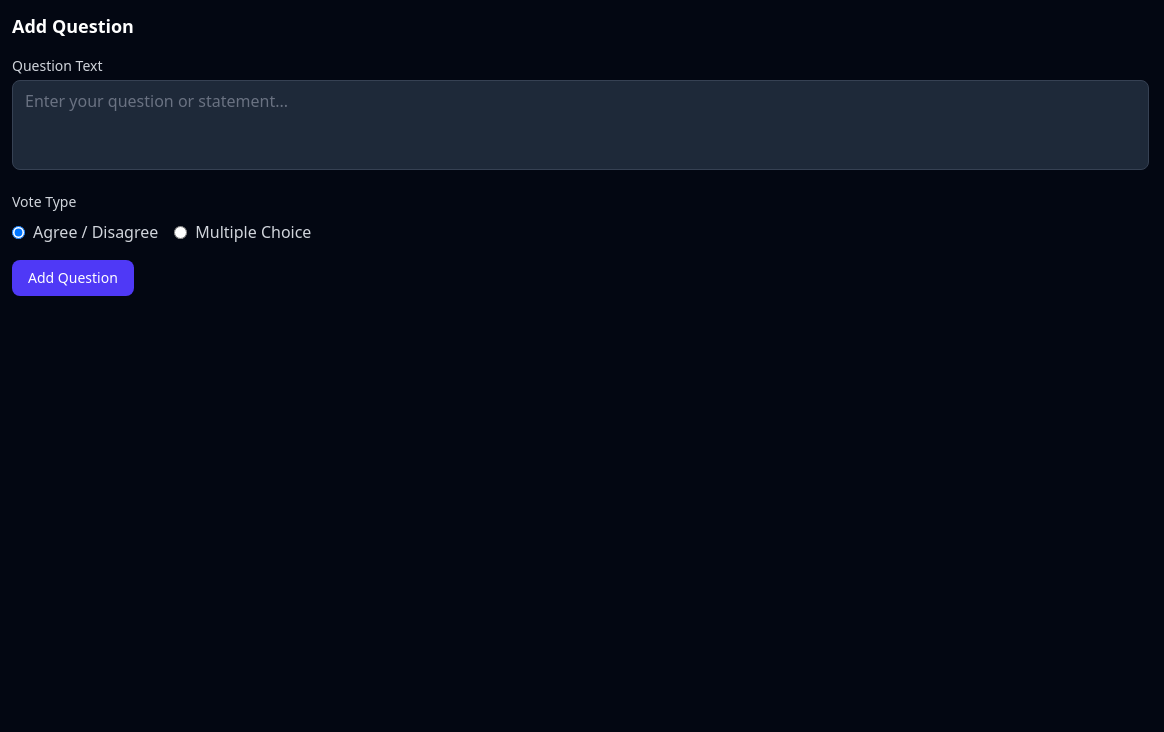
it: QuestionForm › shows error when MC has fewer than 2 options
Click the radio button showing "multiple_choice".
click(181, 232)  # box [174,226,187,238]
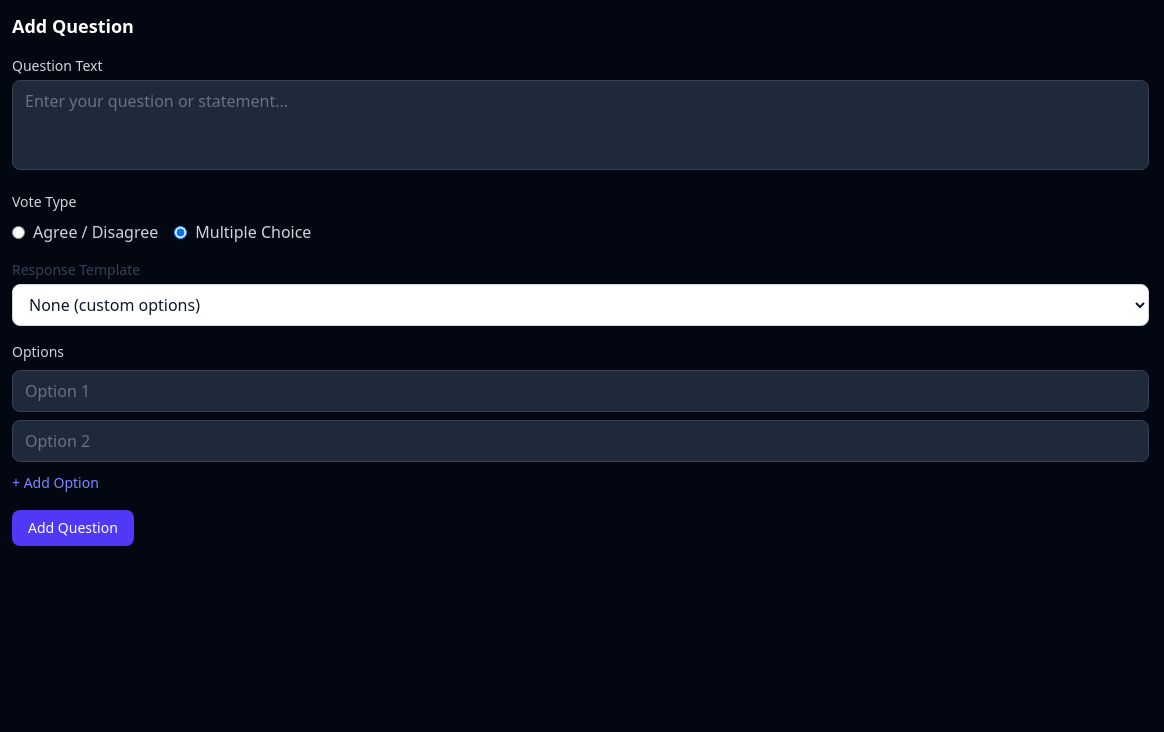
Type "Pick one?" into the text box labelled "Question Text".
click(580, 125); type("Pick one?")  # box [12,80,1149,170]
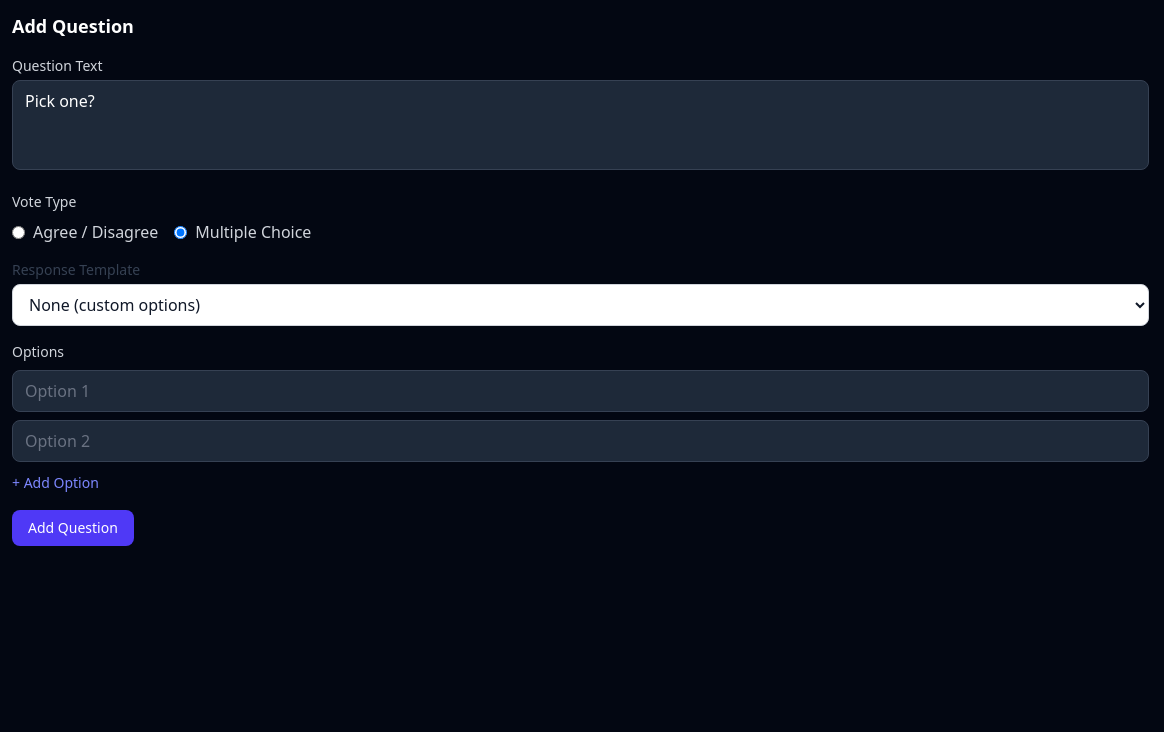
# Leave options empty
Click the button "Add Question".
click(73, 528)  # box [12,510,134,546]
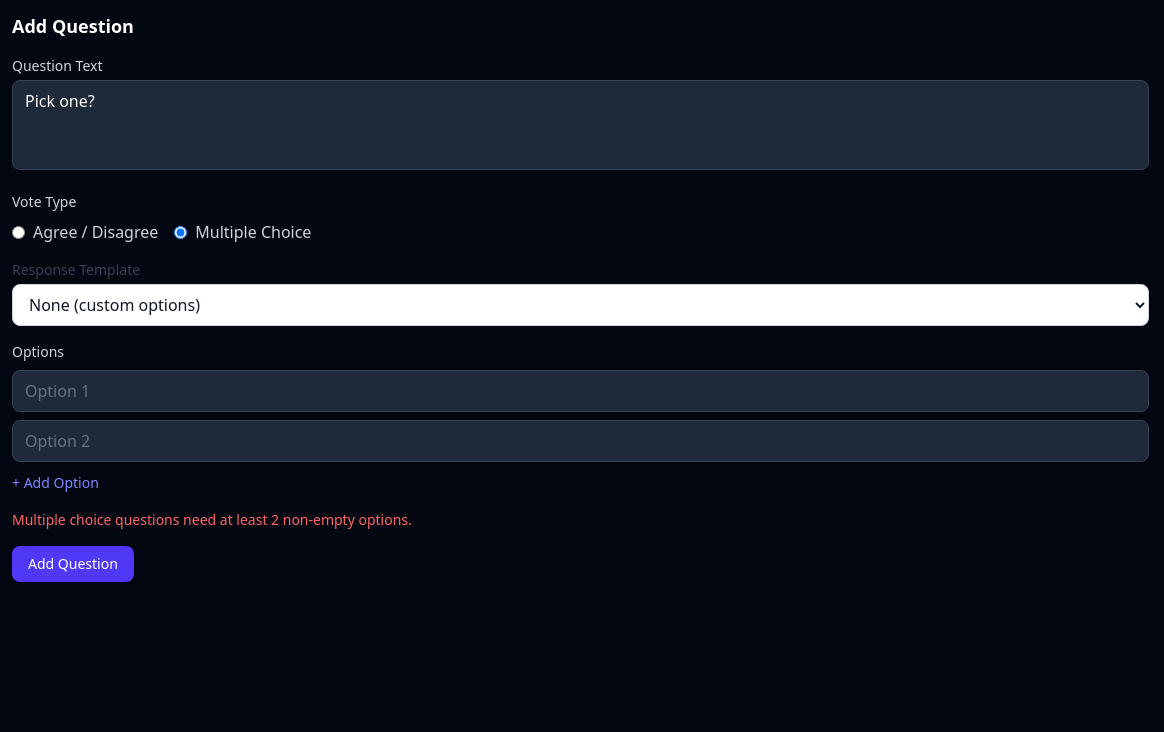
Result: the text "Multiple choice questions need at least 2 non-empty options." is shown at [12,510,412,529]
